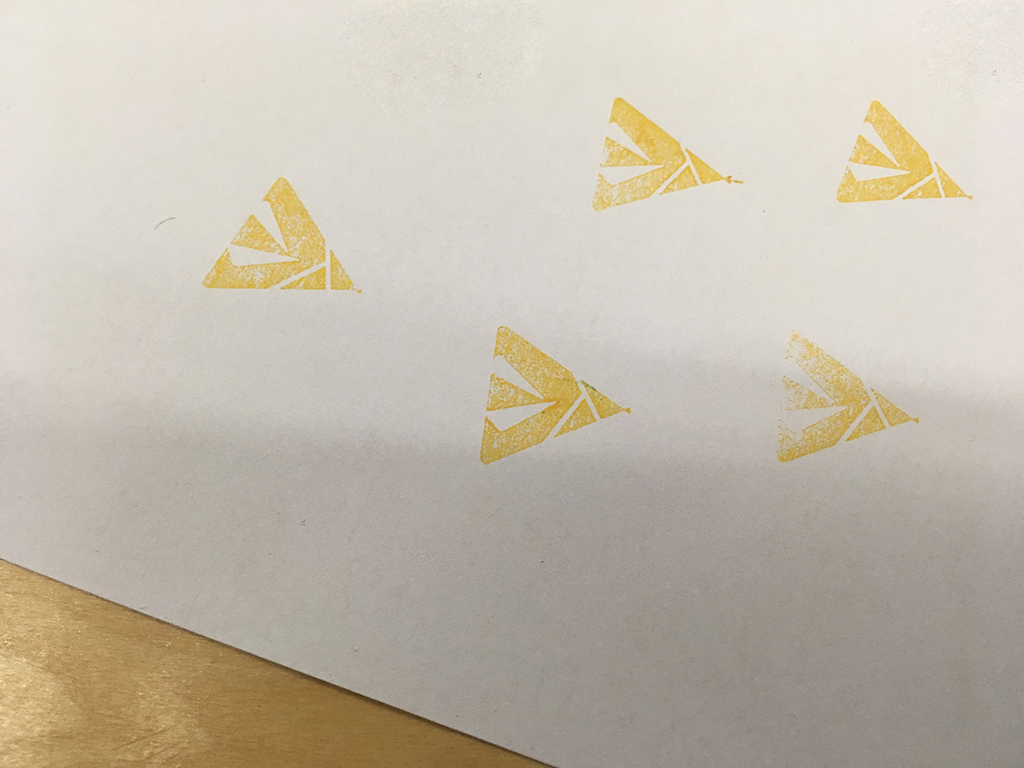tent: (470, 316, 638, 474), (196, 172, 376, 305), (773, 322, 926, 468), (584, 90, 749, 218), (833, 97, 980, 215)
